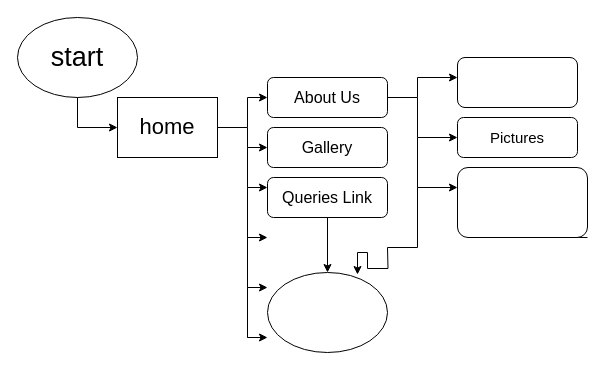
Some shapes in this 613 by 378 pixel diagram are drawn without their labels. The shapes that lost their labels are listed below. From the top down, each one's centre as x and y in pixels, then its label:
At (517,82): "Information".
At (522,202): "North South East West".
At (327,312): "end".
